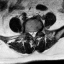CCS_normal: (32, 28, 34, 39)
LFS_stenosis: (36, 26, 39, 33)
LLS_normal: (34, 28, 36, 37)
RFS_stenosis: (27, 28, 29, 35)
RLS_normal: (29, 29, 32, 37)
